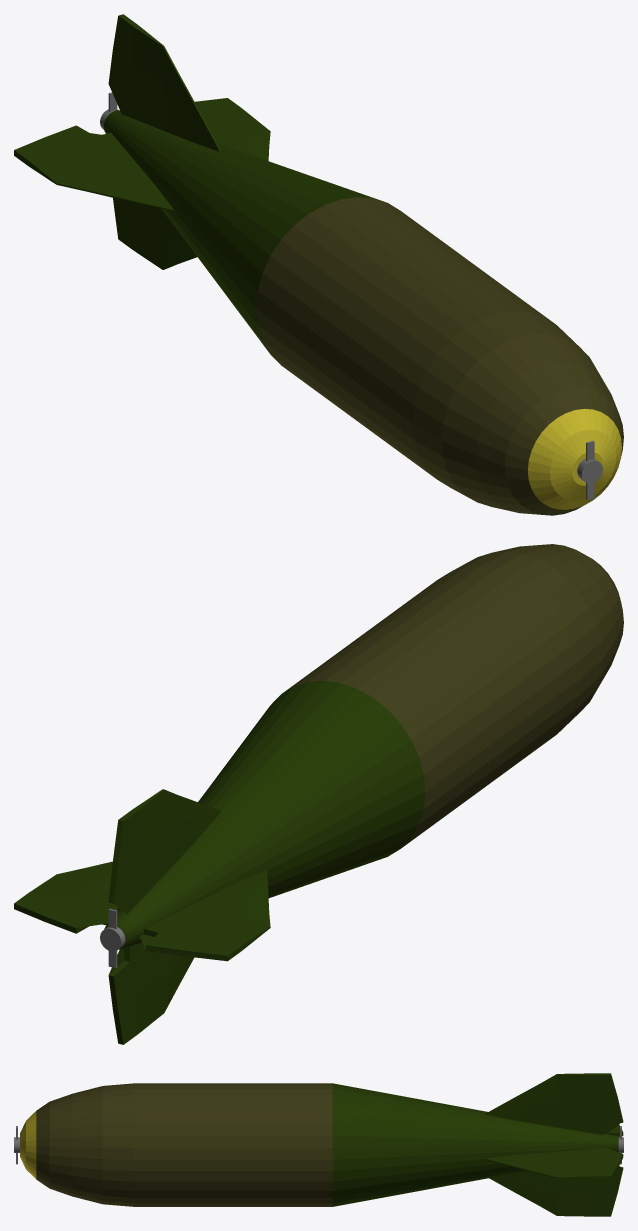
Rendered from w_bomb1000.glb.
The picture shows the model from 3 angles, top to bottom: view 1: azimuth 30°, elevation 25°; view 2: azimuth 150°, elevation 25°; view 3: azimuth 270°, elevation 25°; orthographic projection. The views are drawn at different scales.
Visible parts, largest first — view 1: body|LightBrown, body|DarkGreen, body|Yellow, body|Gray; view 2: body|DarkGreen, body|LightBrown, body|Gray; view 3: body|LightBrown, body|DarkGreen, body|Yellow, body|Gray.
Boxes of the visible parts, x1=… form: body|LightBrown: x1=256, y1=197, x2=623, y2=515; body|DarkGreen: x1=14, y1=14, x2=383, y2=353; body|Yellow: x1=528, y1=408, x2=621, y2=509; body|Gray: x1=100, y1=92, x2=602, y2=500; body|DarkGreen: x1=14, y1=680, x2=425, y2=1044; body|LightBrown: x1=283, y1=544, x2=623, y2=848; body|Gray: x1=100, y1=908, x2=125, y2=968; body|LightBrown: x1=36, y1=1083, x2=332, y2=1206; body|DarkGreen: x1=332, y1=1073, x2=623, y2=1216; body|Yellow: x1=20, y1=1111, x2=36, y2=1178; body|Gray: x1=14, y1=1126, x2=623, y2=1164.
Bounding box in the file's own units: 0.4782 × 0.4782 × 1.87.
